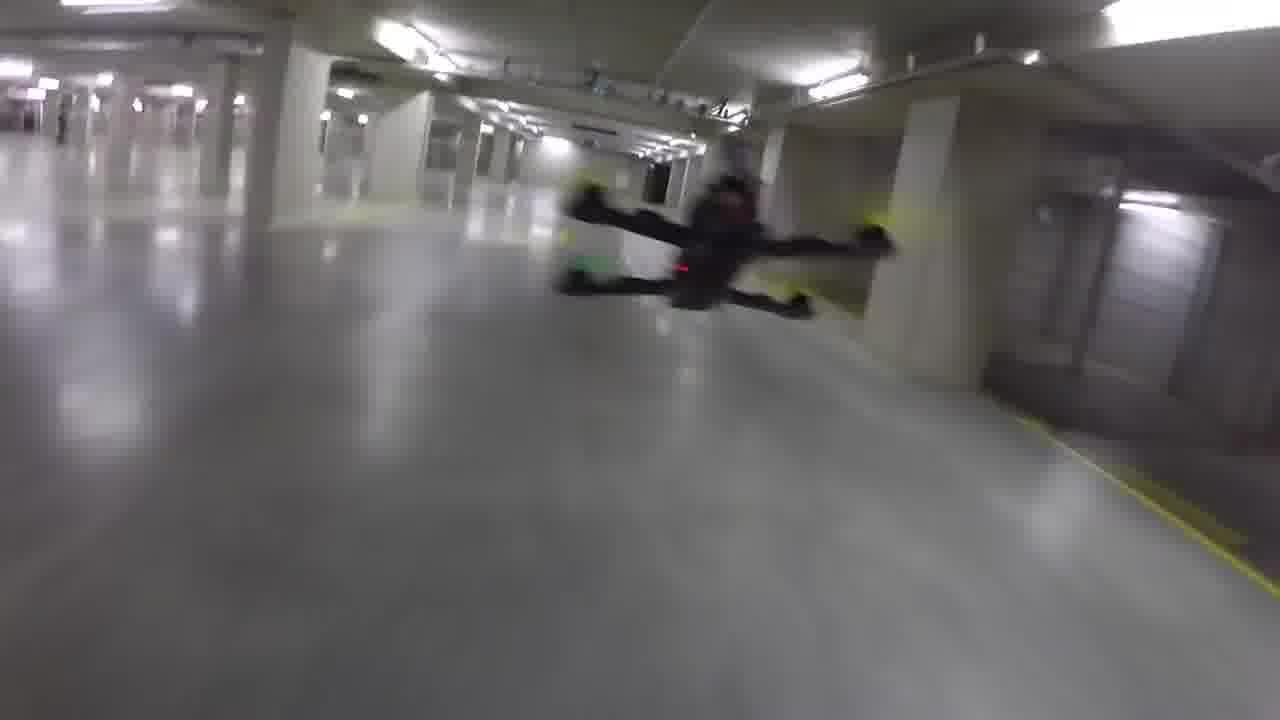drone: (530, 126, 913, 367)
